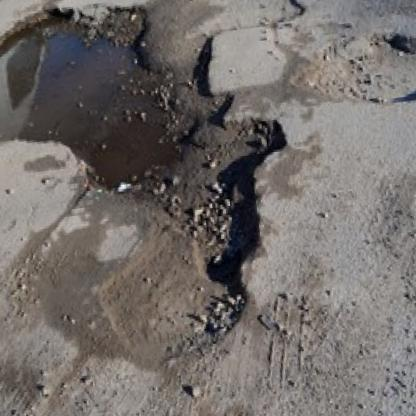pothole: (0, 0, 311, 384), (286, 22, 416, 117)
